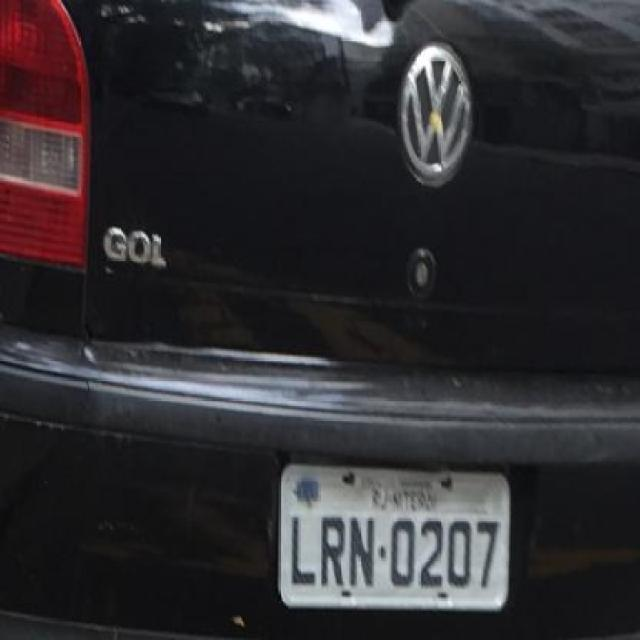old_plate: (269, 450, 523, 618)
